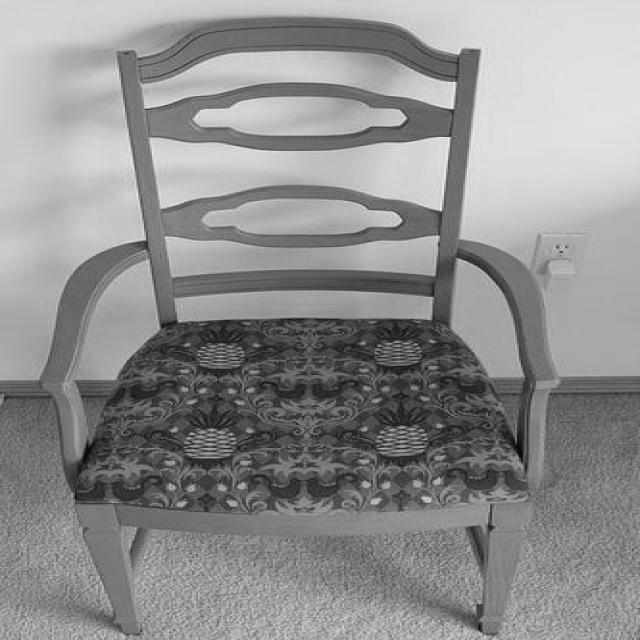chair: (46, 16, 561, 636)
